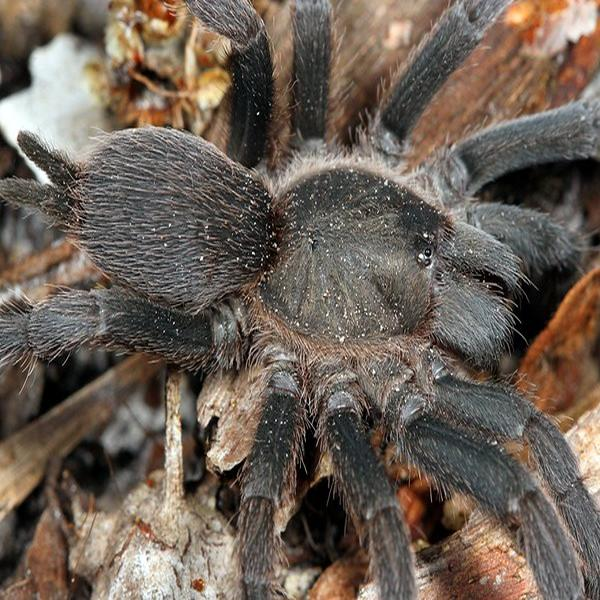Tarantula_Spider: (4, 3, 600, 599)
